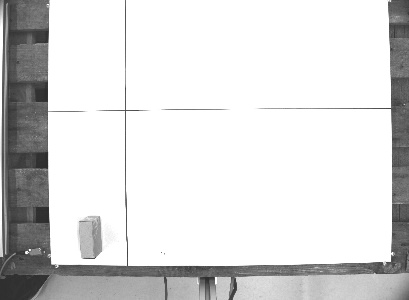b1: (76, 213, 104, 261)
